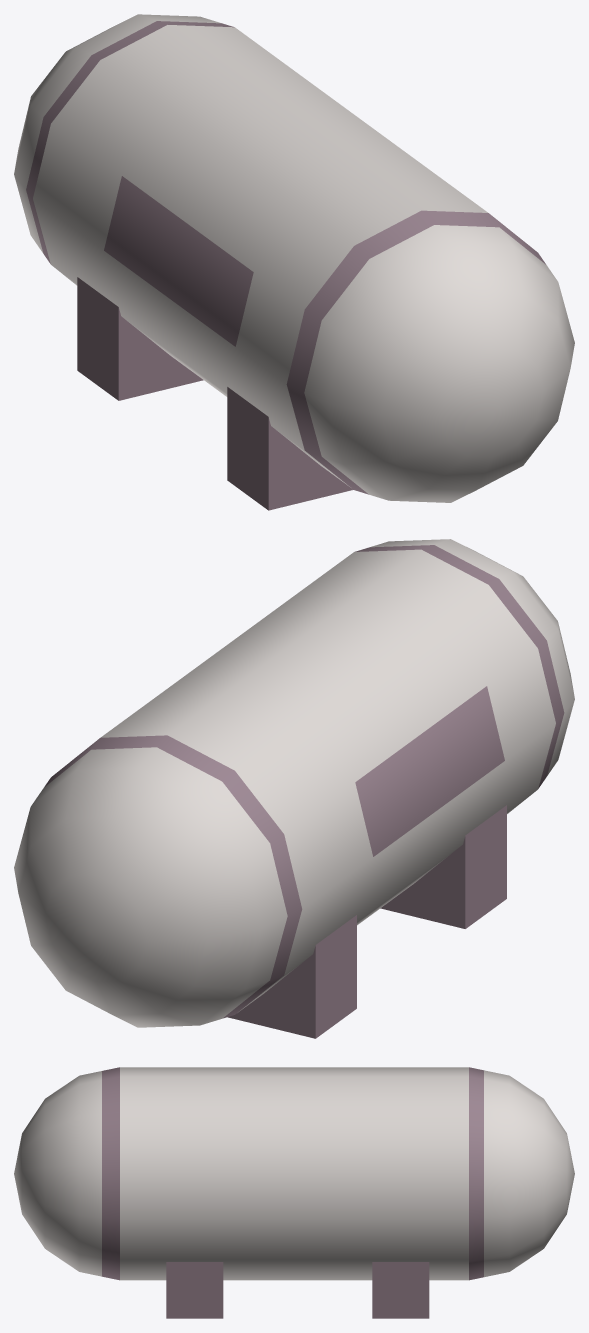
The model's file is 09 Fuel tank.FBX.
The picture shows the model from 3 angles, top to bottom: view 1: azimuth 30°, elevation 25°; view 2: azimuth 150°, elevation 25°; view 3: azimuth 270°, elevation 25°; orthographic projection. The views are drawn at different scales.
Visible parts, largest first — view 1: Air_Tank_1; view 2: Air_Tank_1; view 3: Air_Tank_1.
Part boxes in pixels (box(x1,y1,x2,y2)): Air_Tank_1: box(14, 14, 574, 510); Air_Tank_1: box(14, 539, 574, 1038); Air_Tank_1: box(14, 1067, 574, 1318).
Bounding box in the file's own units: 326 × 342 × 856.
